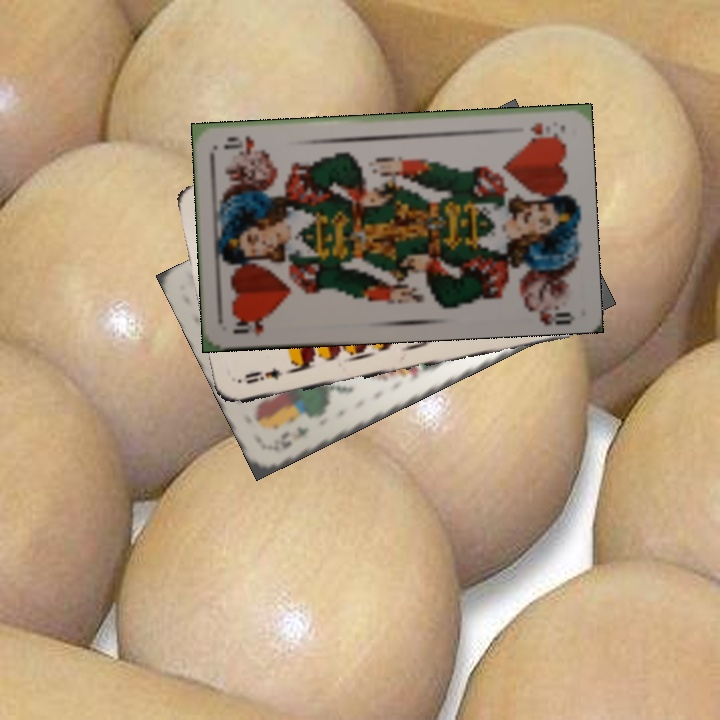E9: (241, 363, 286, 386)
EK: (272, 422, 312, 449)
HO: (229, 313, 272, 340), (526, 118, 561, 141)
